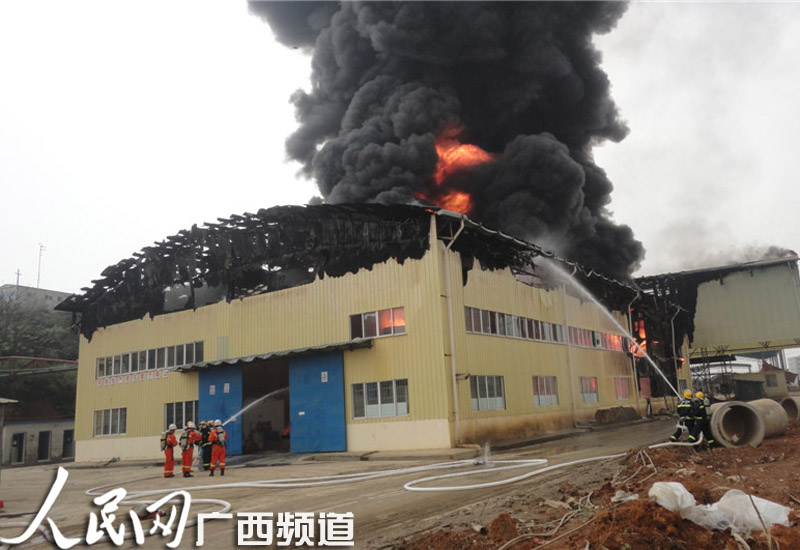fire: (422, 118, 506, 226)
